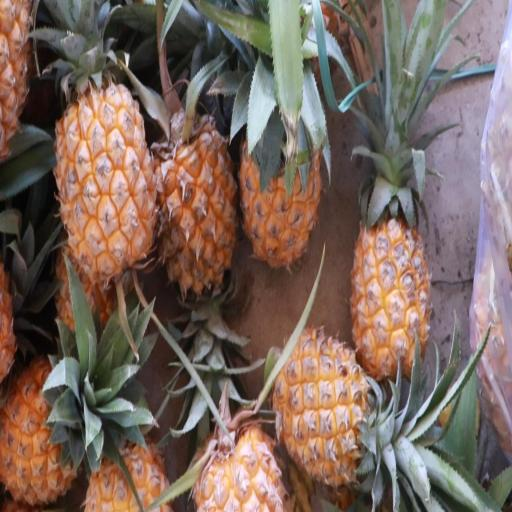Pineapple - v8 v1: (52, 56, 164, 288), (350, 146, 436, 388), (146, 95, 240, 298), (270, 327, 382, 492), (237, 70, 324, 273), (0, 349, 89, 507)
